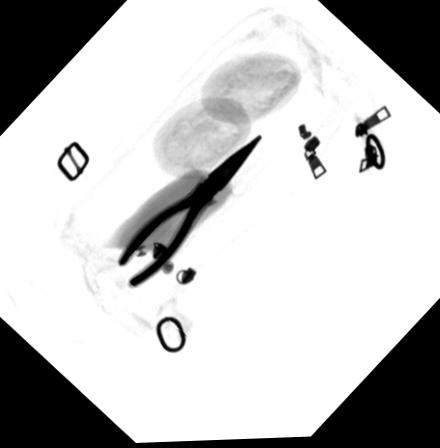Pliers: (116, 134, 262, 289)
